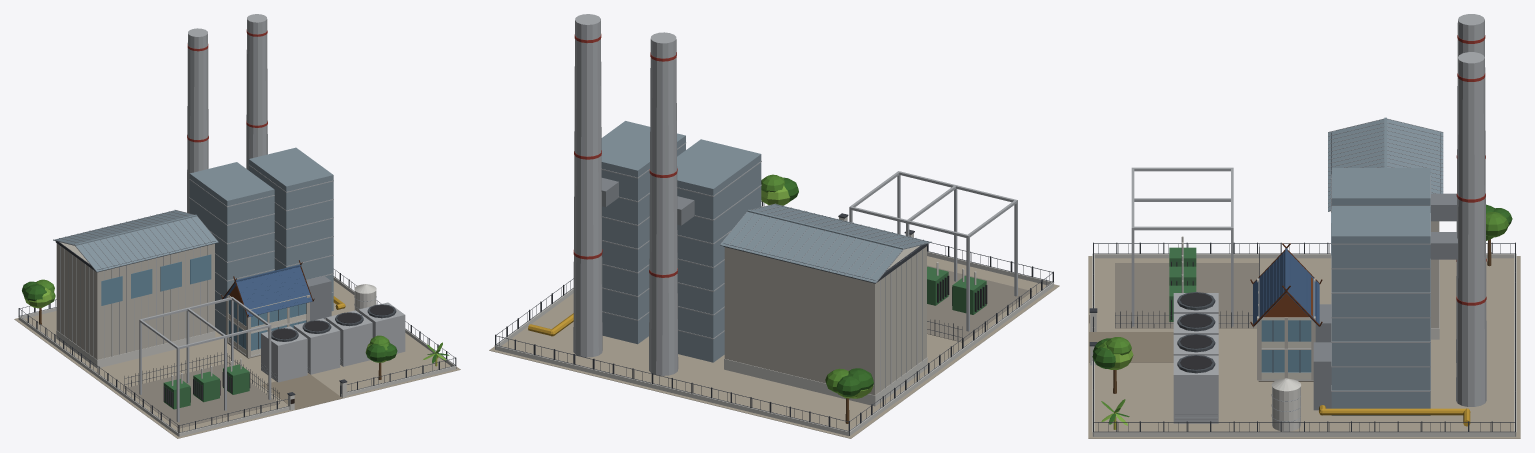
Rendered from power_plant.glb.
3 views of the same model, side by side, from view 1: azimuth 30°, elevation 25°; view 2: azimuth 150°, elevation 25°; view 3: azimuth 270°, elevation 25° (orthographic). The views are drawn at different scales.
Parts seen in each view (by area): view 1: body; view 2: body; view 3: body.
Boxes of the visible parts, x1,y1,x2,y2 form: body: (14, 14, 460, 438); body: (489, 14, 1059, 438); body: (1088, 14, 1520, 438).
Bounding box in the file's own units: 48.28 × 42.03 × 47.9.
